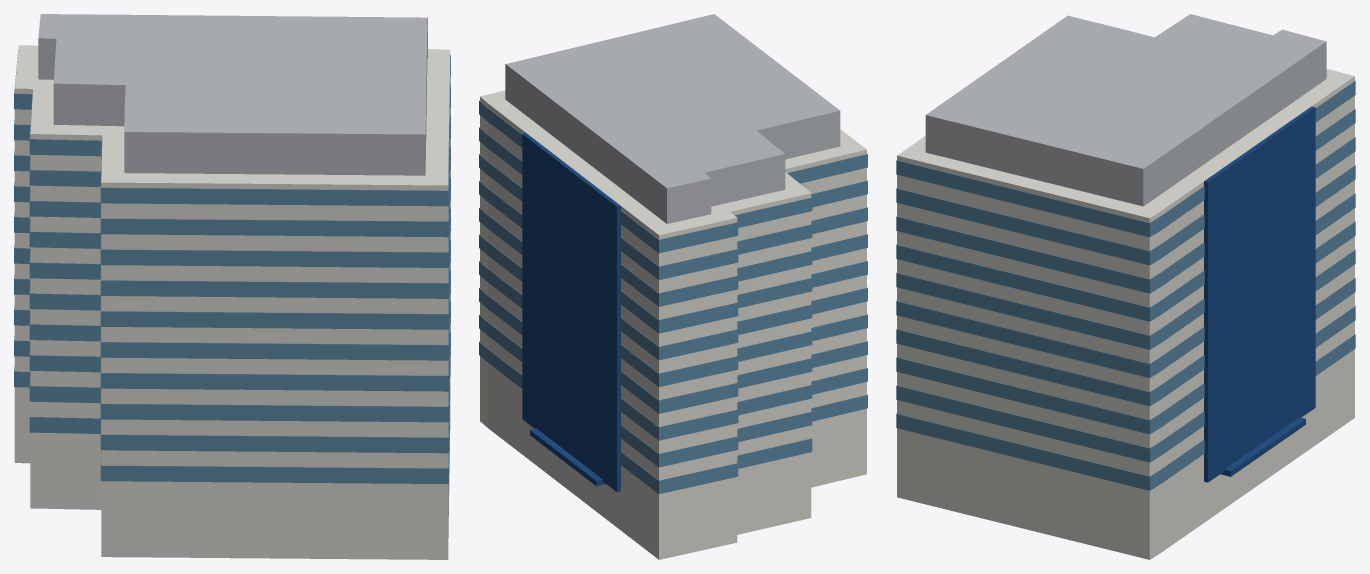
The model's file is kuangsan-sogo.glb.
3 renders of one model, left to right at view 1: azimuth 30°, elevation 25°; view 2: azimuth 150°, elevation 25°; view 3: azimuth 270°, elevation 25°, orthographic. The views are drawn at different scales.
Parts seen in each view (by area): view 1: kuangsan-sogo; view 2: kuangsan-sogo; view 3: kuangsan-sogo.
Boxes of the visible parts, x1=… form: kuangsan-sogo: x1=14, y1=14, x2=450, y2=559; kuangsan-sogo: x1=479, y1=14, x2=867, y2=559; kuangsan-sogo: x1=896, y1=14, x2=1355, y2=559.
Bounding box in the file's own units: 81.92 × 80.8 × 88.73.
